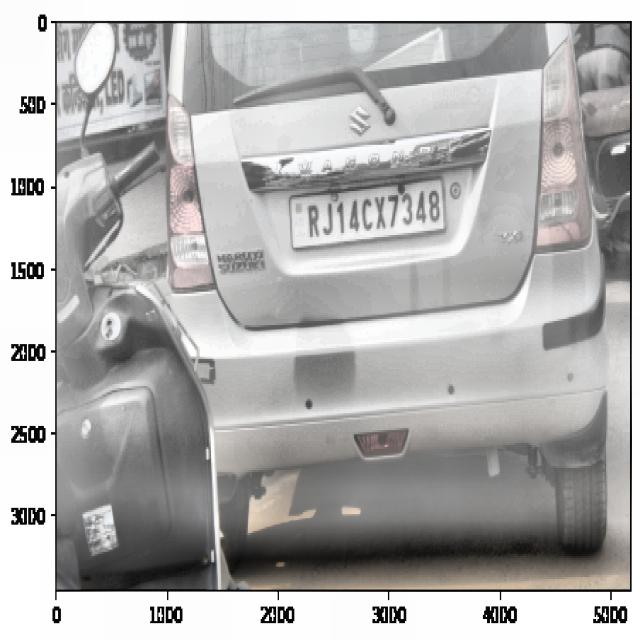license_plate: (303, 187, 447, 244)
